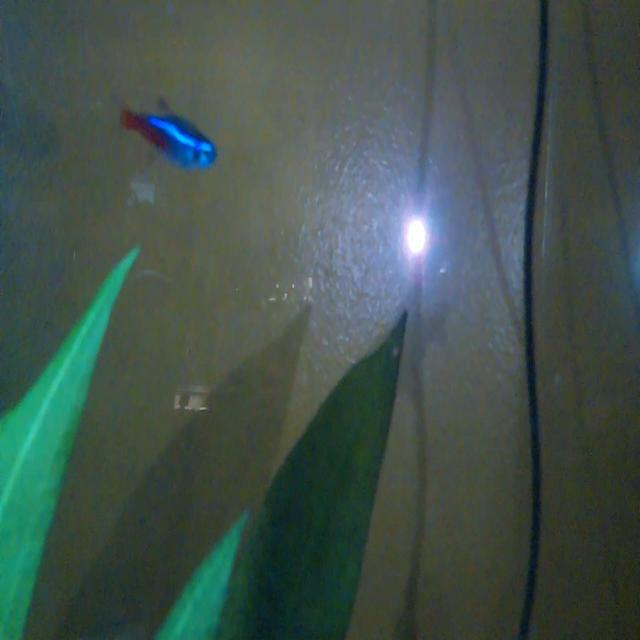fish: (118, 94, 228, 182)
